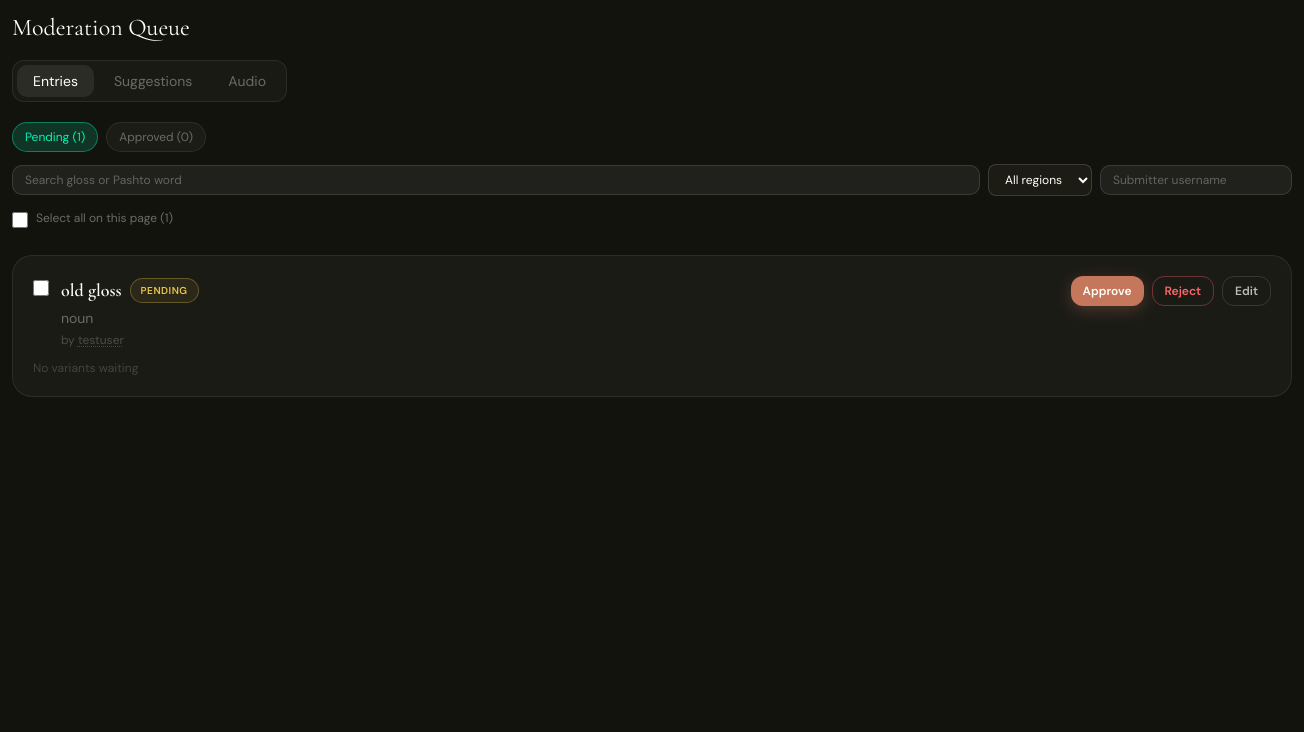
Scenario: Inline edit form — Concepts tab › updates the item in the list after a successful concept edit (no full reload)
Expected: the text "old gloss" is shown, x1=61 y1=276 x2=122 y2=304
Click the button "Edit".
click(1247, 291)  # box x1=1222 y1=276 x2=1271 y2=306
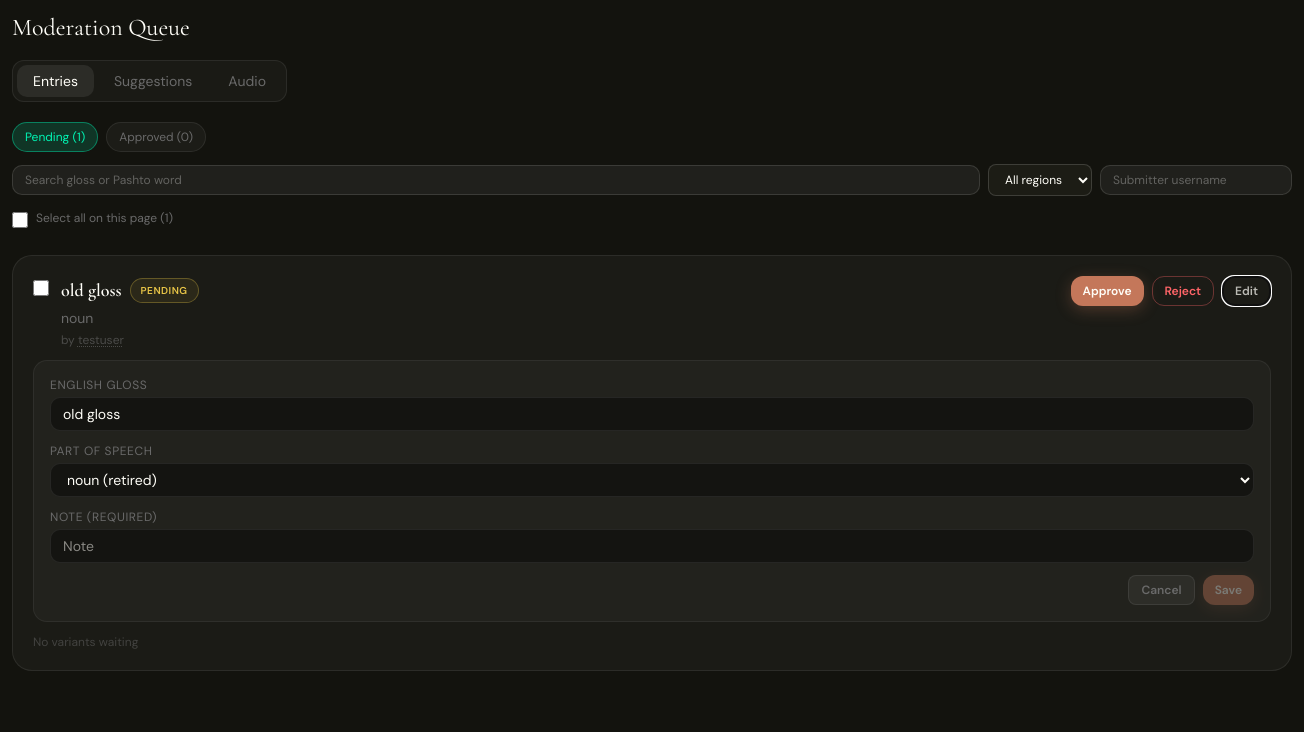
Replace the text in the field showing "old gloss" with "new gloss" at coordinates (652, 414), box x1=50 y1=397 x2=1254 y2=431
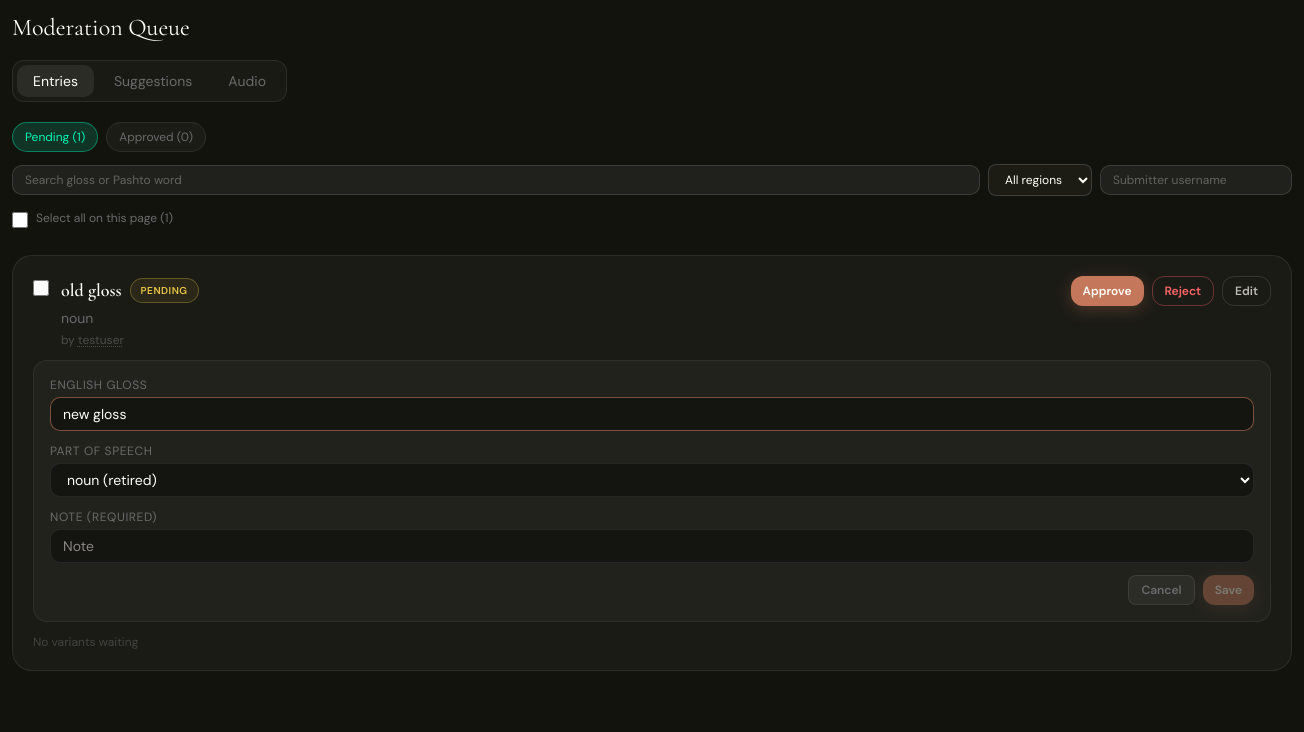
Type "Updated" into the field labelled "Note (required)".
click(652, 546); type("Updated")  # box x1=50 y1=529 x2=1254 y2=563
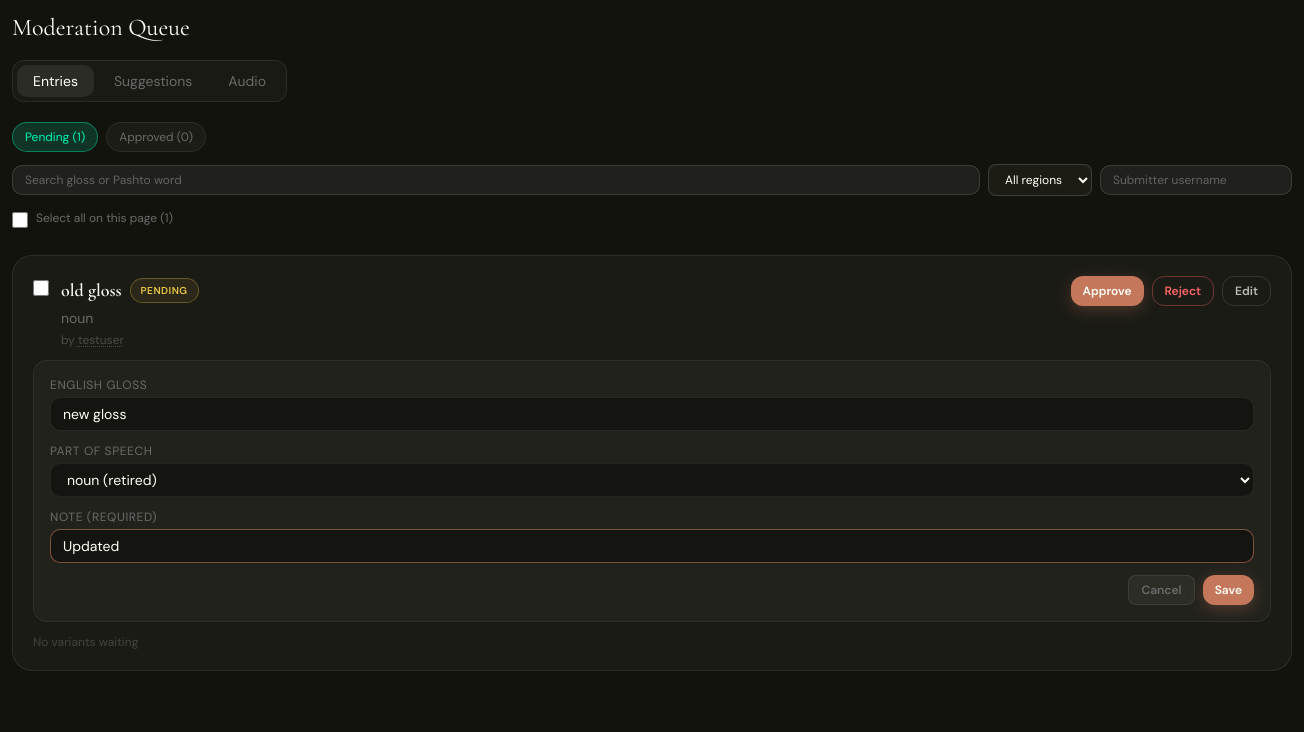
Click the button "Save".
click(1228, 590)  # box x1=1203 y1=575 x2=1254 y2=605
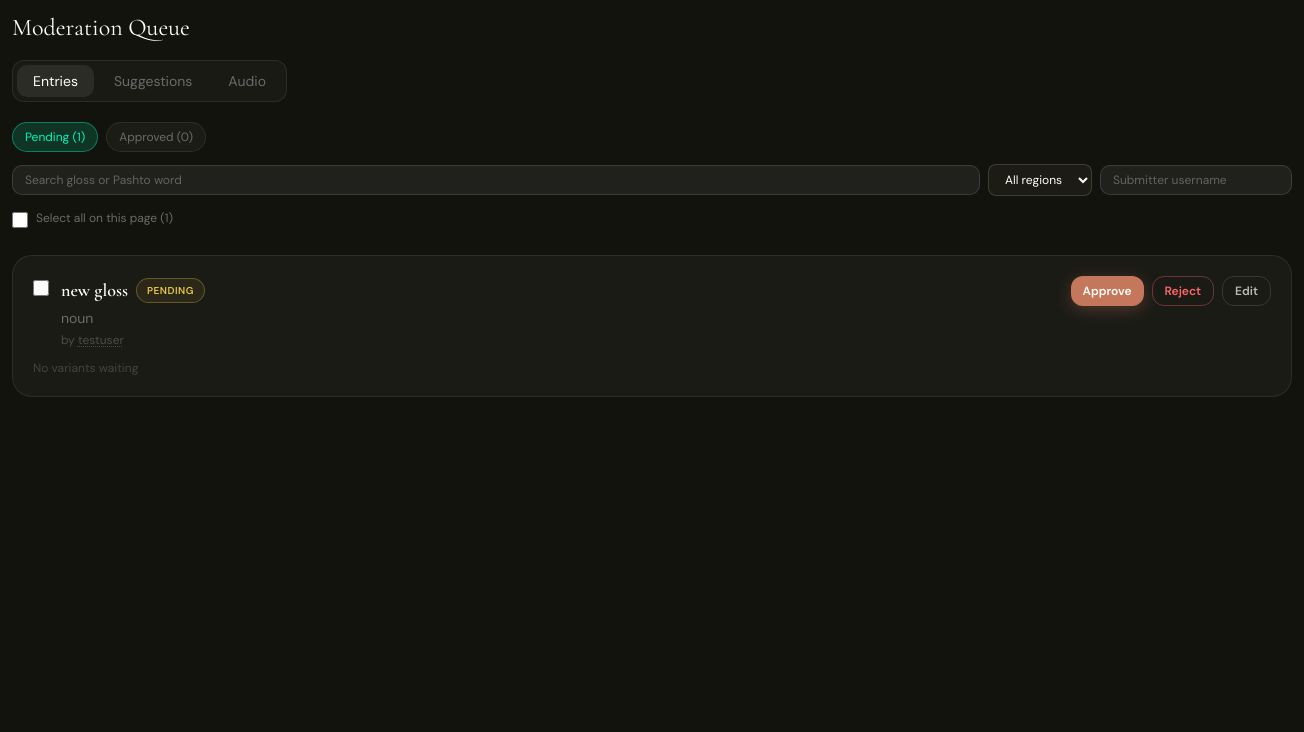
Expected: the text "new gloss" is shown, x1=61 y1=276 x2=128 y2=304
